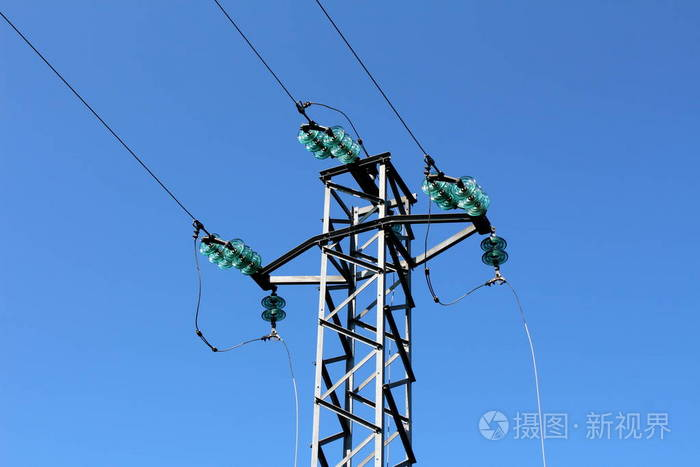insulator: (421, 178, 491, 219), (297, 124, 361, 163), (198, 238, 260, 275), (480, 237, 511, 267), (260, 294, 286, 321)
